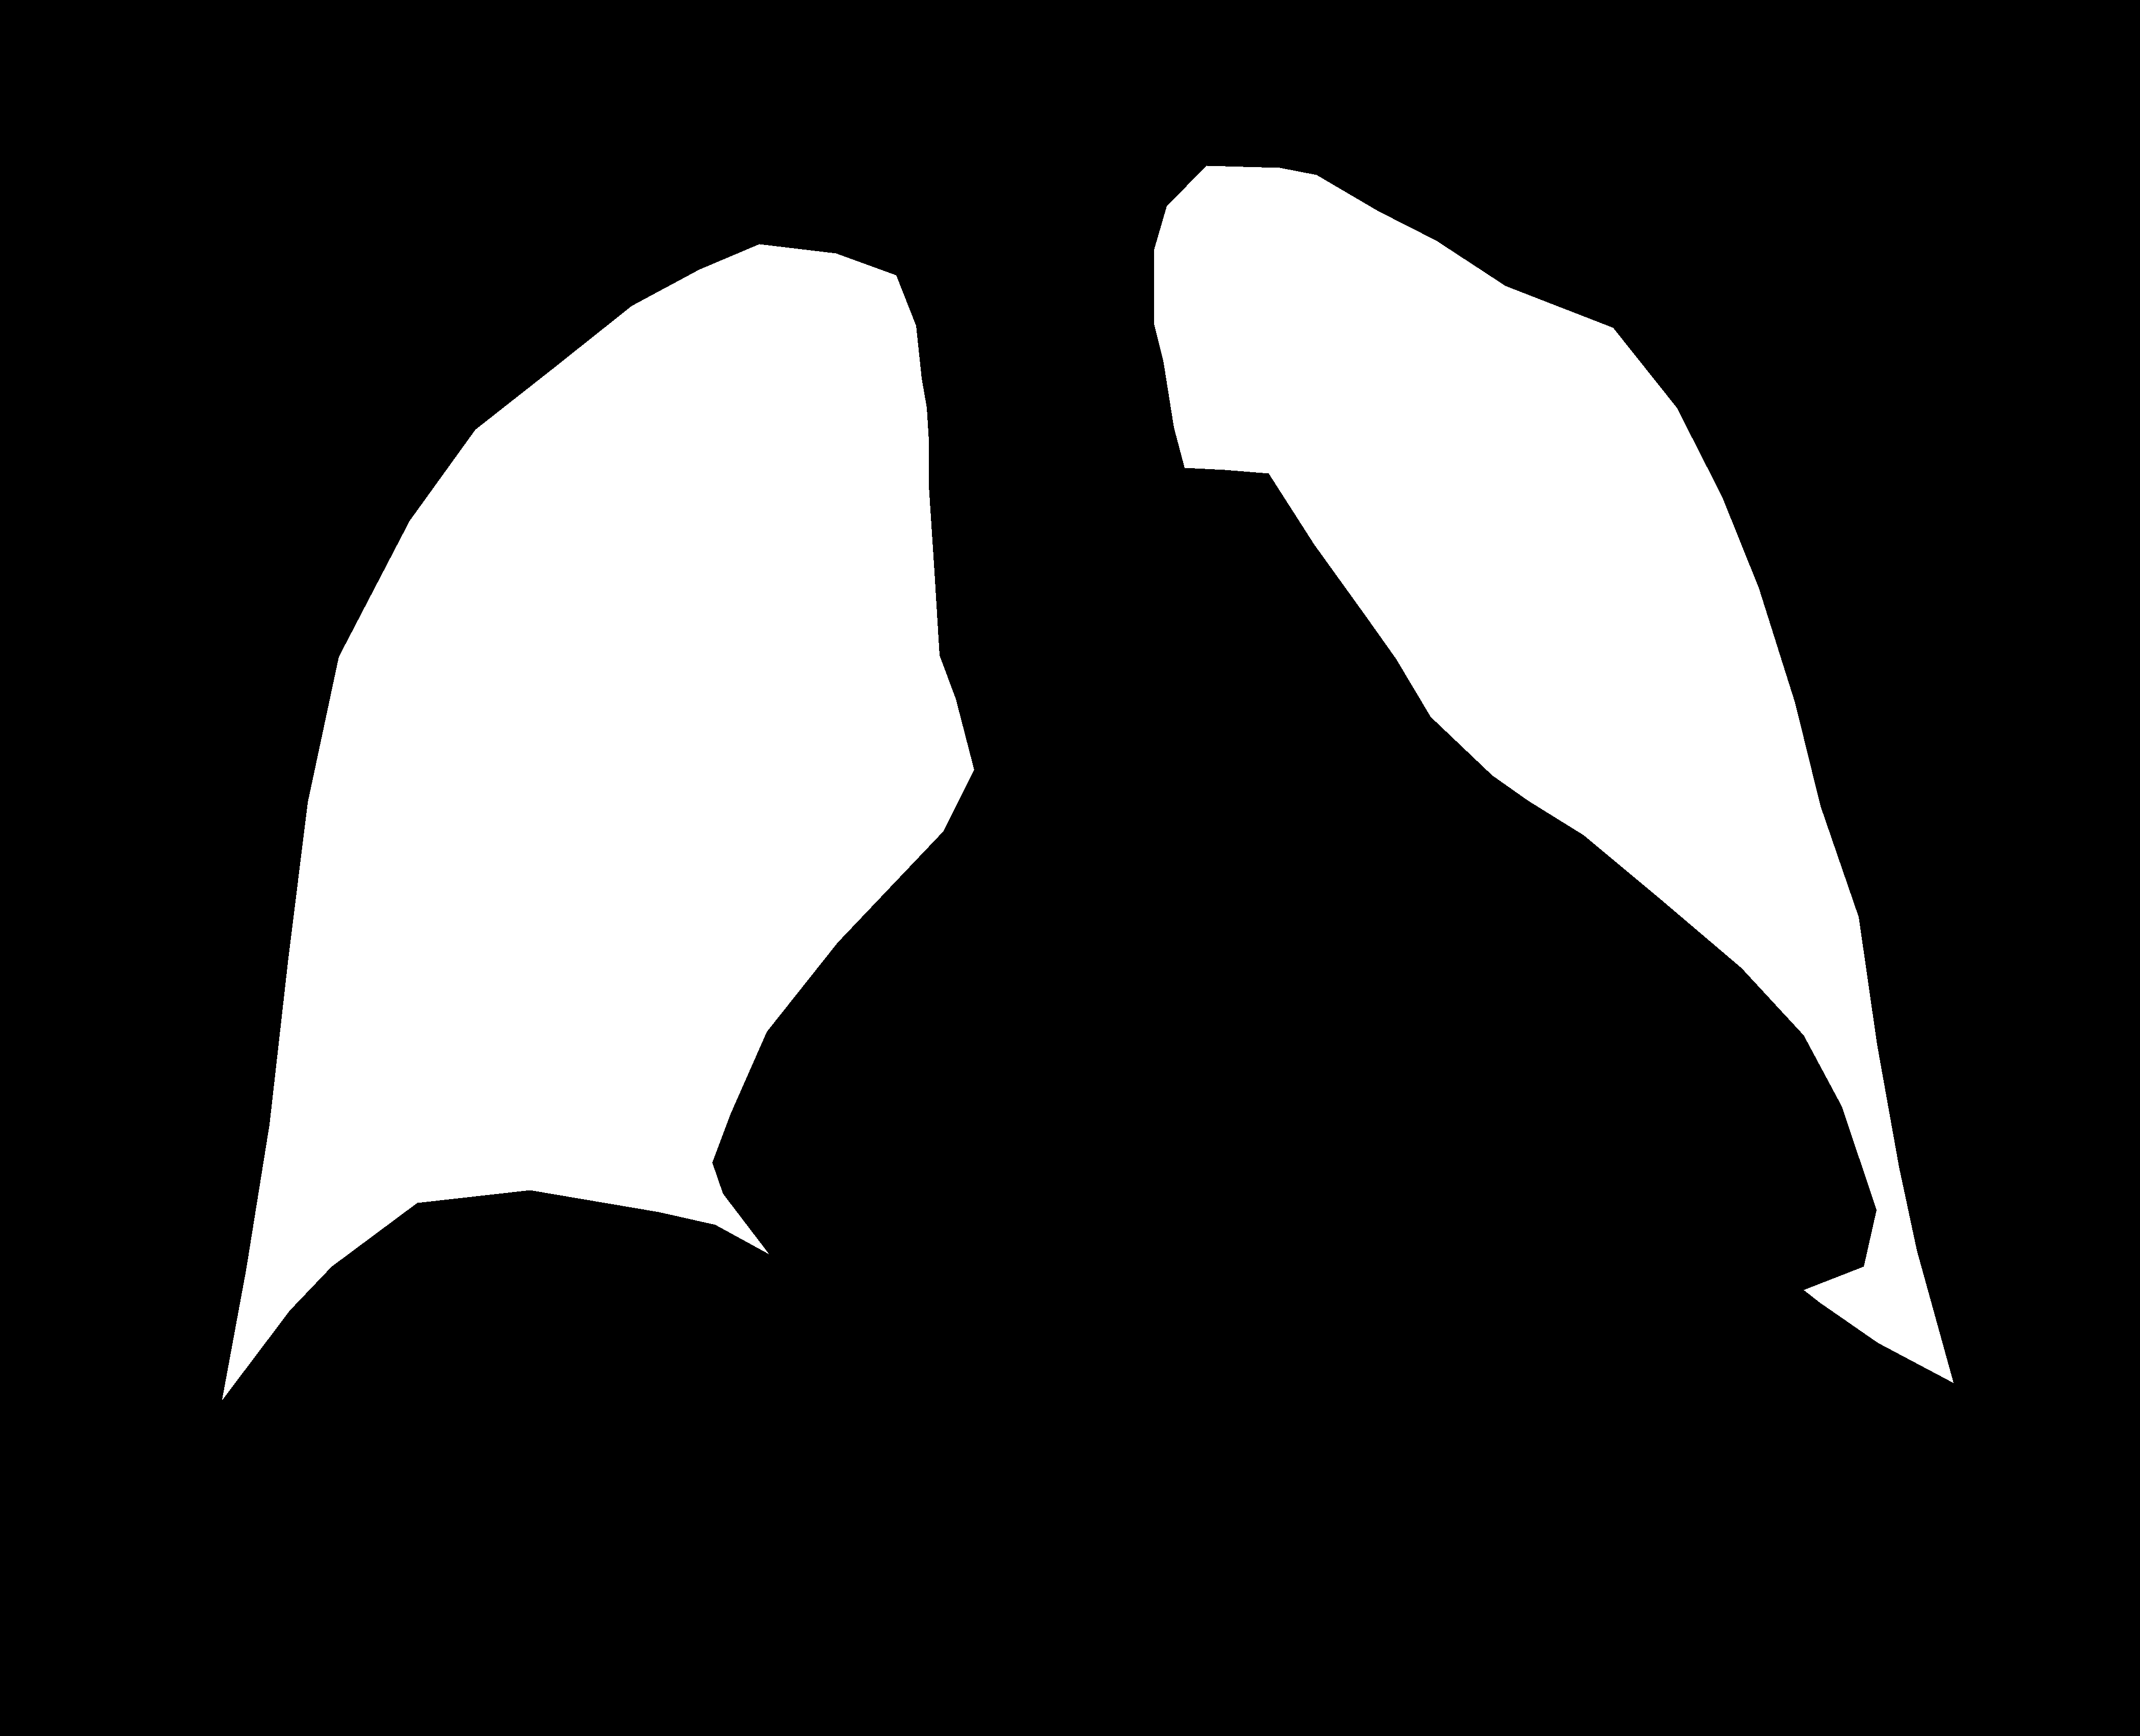heart: (725, 631, 1867, 1378)
left_lung: (221, 244, 974, 1399)
right_lung: (1153, 165, 1952, 1382)
